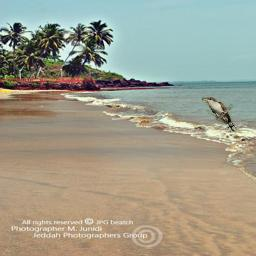Cuckoo: (202, 97, 237, 133)
